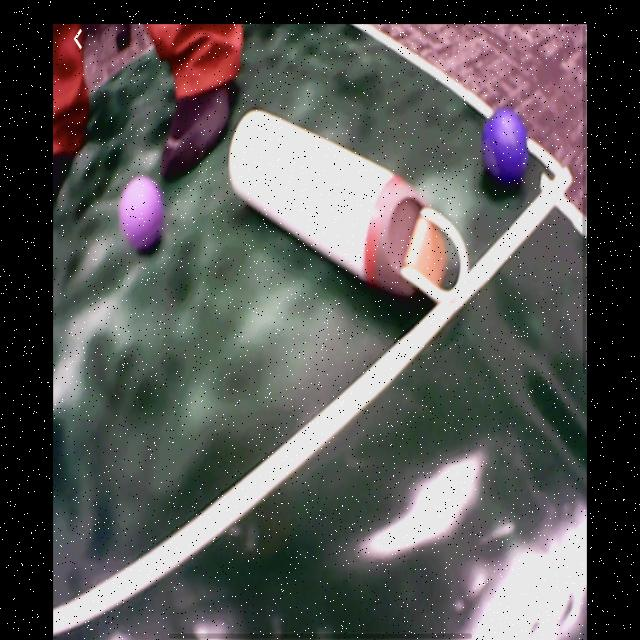ball: (481, 106, 529, 184), (120, 178, 163, 251)
